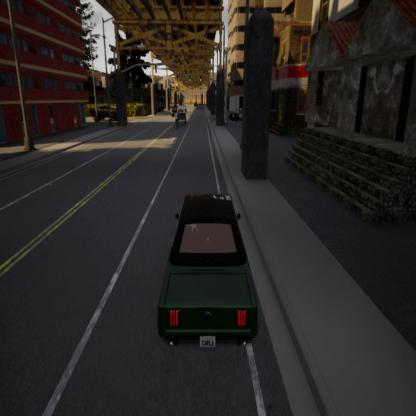Cars: (158, 194, 257, 349), (90, 103, 119, 122), (230, 108, 244, 122), (176, 106, 186, 125), (171, 106, 178, 116), (175, 109, 178, 129)
